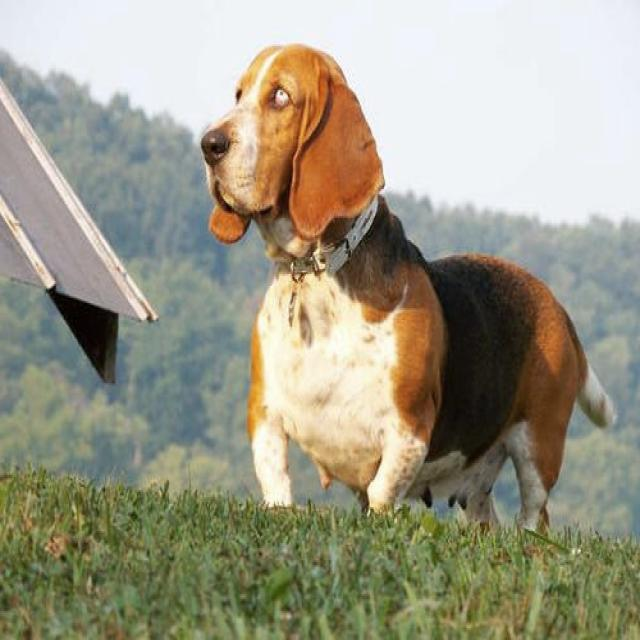basset: (192, 41, 620, 541)
